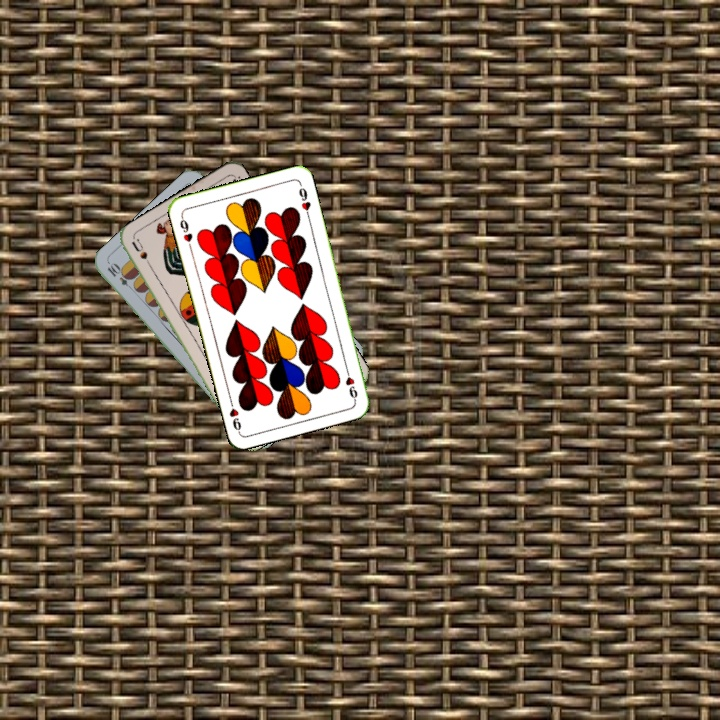E10: (103, 259, 137, 293)
H9: (176, 211, 195, 251), (341, 363, 360, 403)
SU: (128, 236, 156, 274)
